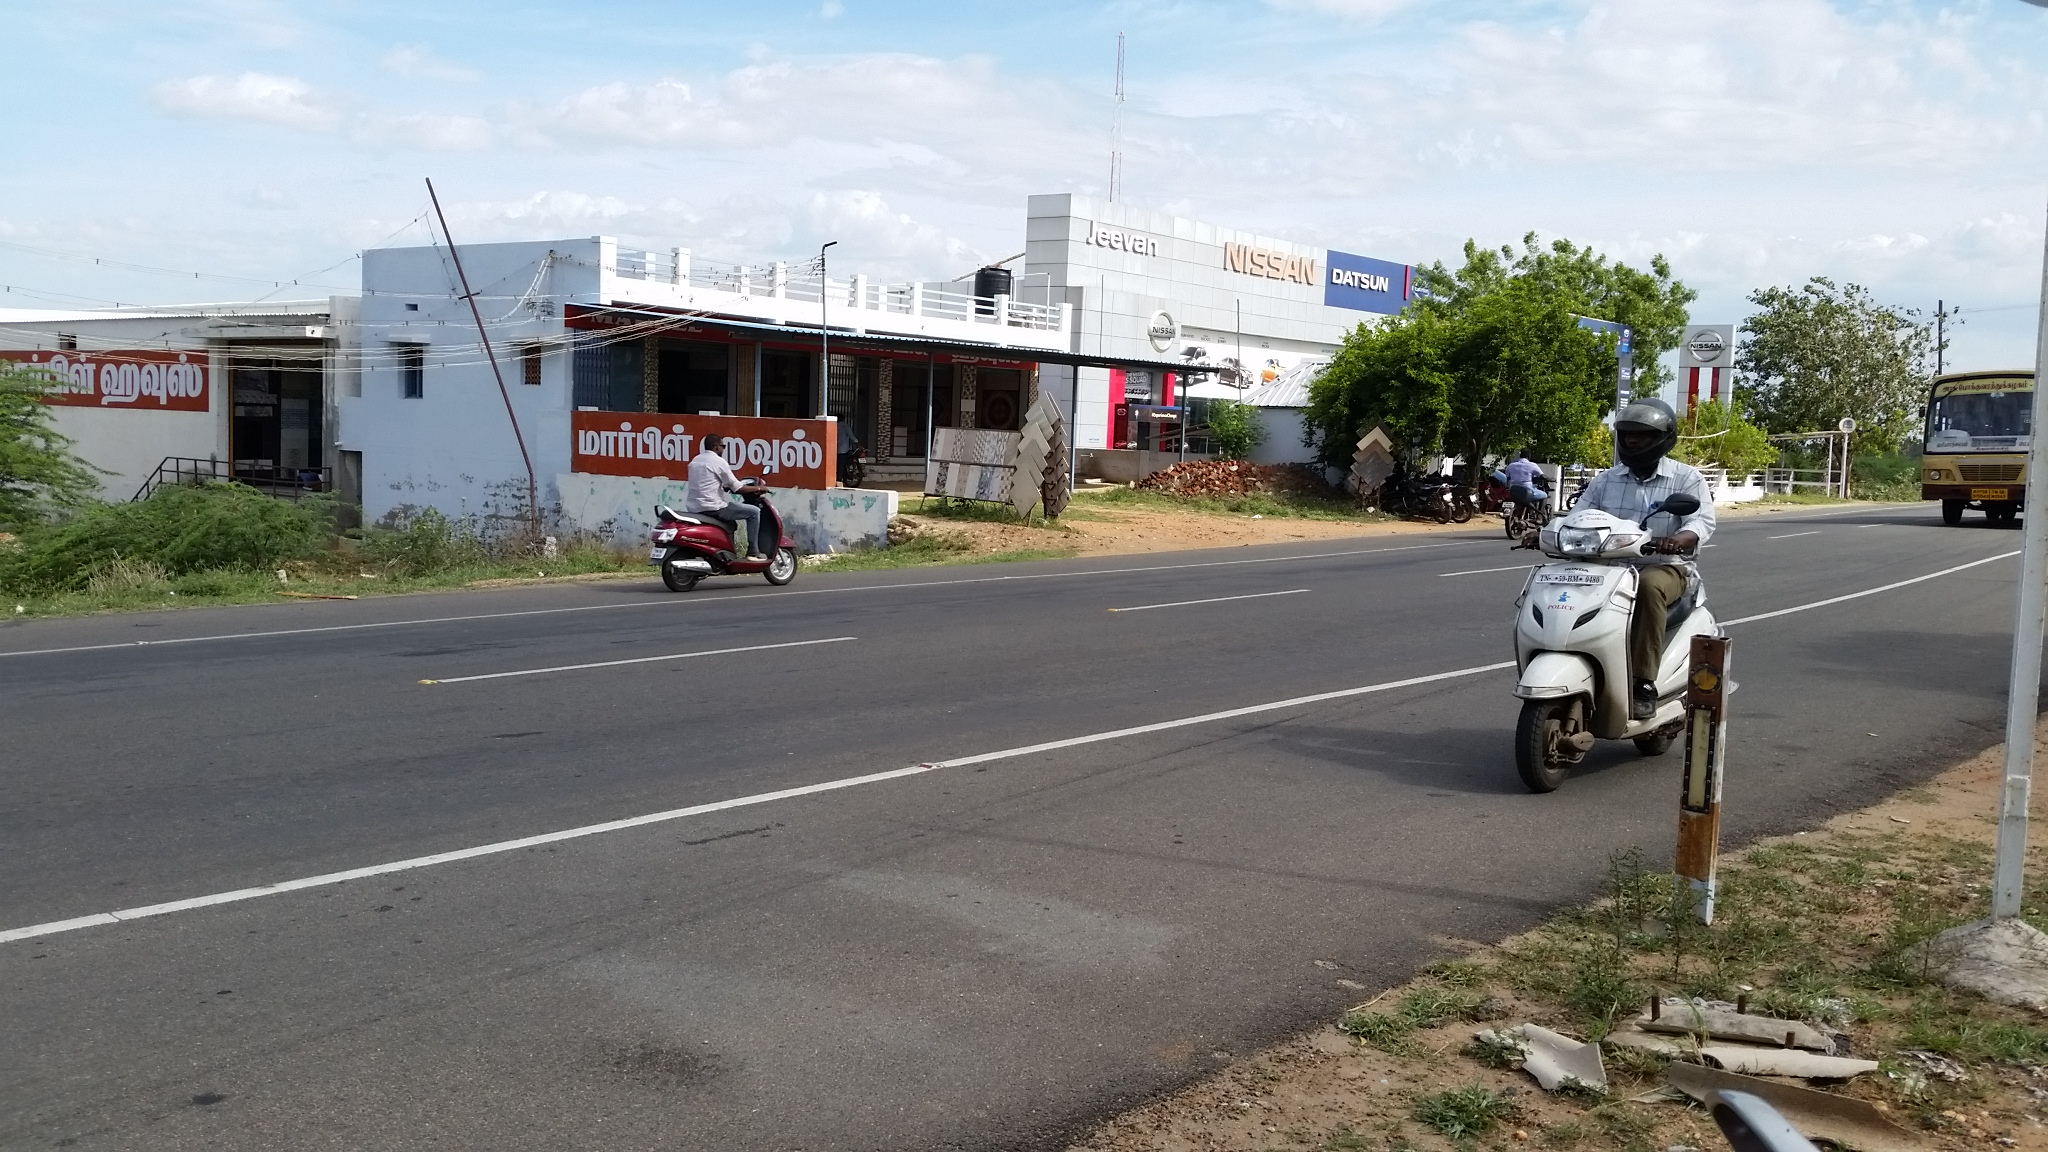biker: (1443, 360, 1791, 810), (639, 395, 807, 612), (1484, 426, 1556, 544)
helmet: (1602, 397, 1692, 483)
nohelmet: (692, 420, 739, 473), (1509, 439, 1538, 471)
